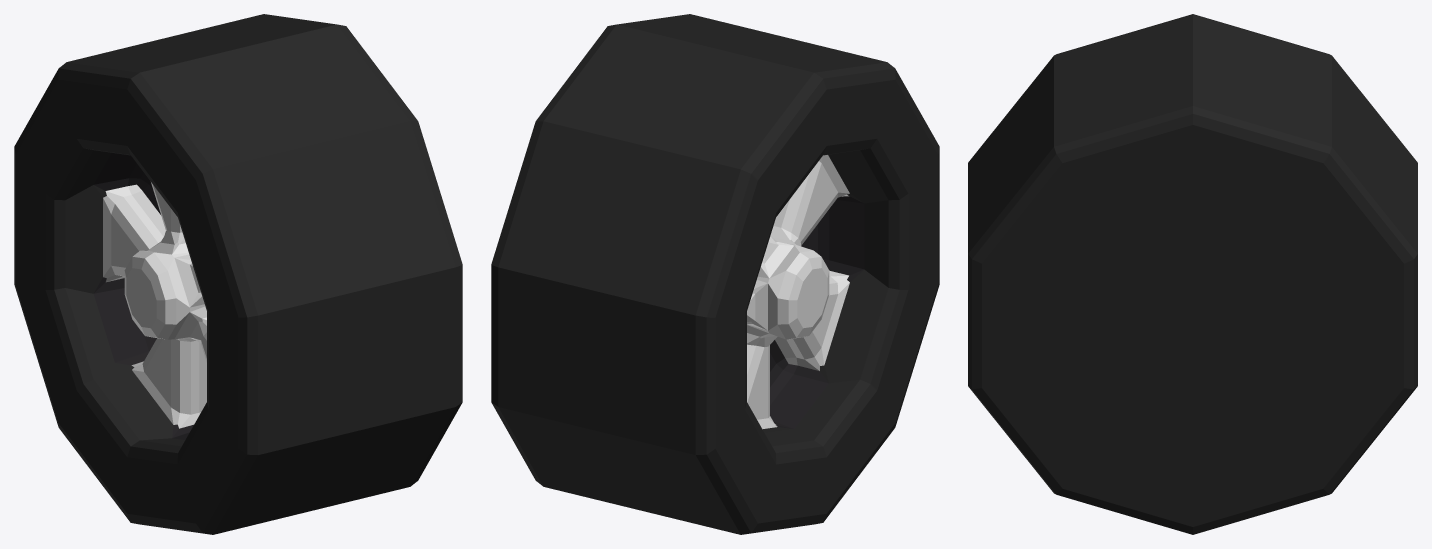
File: Buggy_Wheel.fbx
The picture shows the model from 3 angles, left to right: view 1: azimuth 30°, elevation 25°; view 2: azimuth 150°, elevation 25°; view 3: azimuth 270°, elevation 25°; orthographic projection. The views are drawn at different scales.
Visible parts, largest first — view 1: Tire; view 2: Tire; view 3: Tire.
Boxes of the visible parts, x1,y1,x2,y2 form: Tire: (14, 14, 462, 534); Tire: (491, 14, 939, 534); Tire: (968, 14, 1417, 534).
Size of the model in its own units: 83.52 by 162 by 154.
